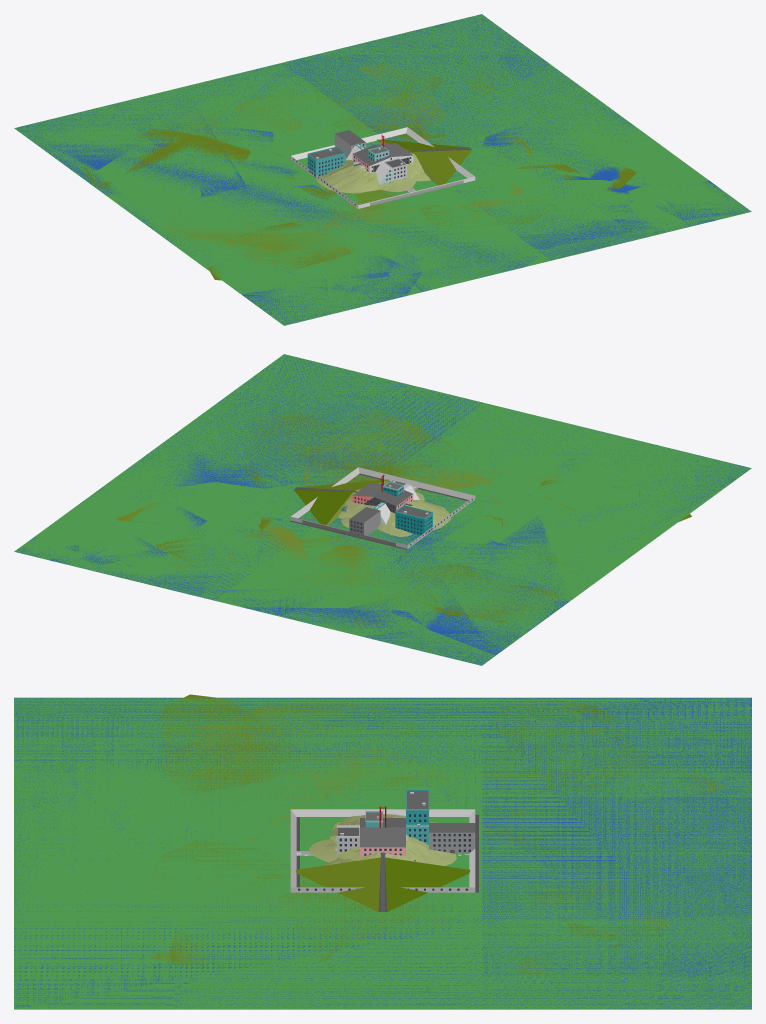
File: central_europe.glb
3 views of the same model, one above another, from view 1: azimuth 30°, elevation 25°; view 2: azimuth 150°, elevation 25°; view 3: azimuth 270°, elevation 25° (orthographic). The views are drawn at different scales.
Visible parts, largest first — view 1: central_europe_000_lod0, central_europe_129_lod0, central_europe_142_lod0, central_europe_148_lod0, central_europe_149_lod0, central_europe_141_lod0, central_europe_155_lod0, central_europe_131_lod0, central_europe_140_lod0, central_europe_134_lod0, central_europe_135_lod0, central_europe_136_lod0 (+24 smaller); view 2: central_europe_135_lod0, central_europe_131_lod0, central_europe_000_lod0, central_europe_152_lod0, central_europe_129_lod0, central_europe_142_lod0, central_europe_141_lod0, central_europe_134_lod0, central_europe_149_lod0, central_europe_148_lod0, central_europe_106_lod0_forest, central_europe_139_lod0 (+22 smaller); view 3: central_europe_000_lod0, central_europe_144_lod0, central_europe_128_lod0, central_europe_159_lod0, central_europe_134_lod0, central_europe_129_lod0, central_europe_131_lod0, central_europe_143_lod0, central_europe_135_lod0, central_europe_138_lod0, central_europe_106_lod0_forest, central_europe_140_lod0 (+24 smaller).
Part boxes in pixels (box(x1,y1,x2,y2)): central_europe_000_lod0: box(14, 14, 751, 325); central_europe_129_lod0: box(16, 15, 749, 324); central_europe_142_lod0: box(20, 21, 742, 324); central_europe_148_lod0: box(46, 25, 748, 320); central_europe_149_lod0: box(34, 40, 729, 310); central_europe_141_lod0: box(32, 16, 741, 322); central_europe_155_lod0: box(29, 45, 744, 322); central_europe_131_lod0: box(16, 15, 746, 324); central_europe_140_lod0: box(22, 16, 745, 317); central_europe_134_lod0: box(16, 16, 745, 323); central_europe_135_lod0: box(18, 15, 741, 324); central_europe_136_lod0: box(20, 19, 744, 322); central_europe_135_lod0: box(20, 356, 749, 664); central_europe_131_lod0: box(15, 355, 749, 664); central_europe_000_lod0: box(14, 354, 750, 665); central_europe_152_lod0: box(107, 385, 718, 658); central_europe_129_lod0: box(18, 355, 748, 664); central_europe_142_lod0: box(25, 357, 740, 662); central_europe_141_lod0: box(18, 355, 740, 661); central_europe_134_lod0: box(17, 356, 748, 664); central_europe_149_lod0: box(62, 412, 725, 663); central_europe_148_lod0: box(112, 360, 671, 662); central_europe_106_lod0_forest: box(156, 448, 691, 622); central_europe_139_lod0: box(34, 356, 745, 664); central_europe_000_lod0: box(14, 697, 751, 1009); central_europe_144_lod0: box(14, 698, 751, 1008); central_europe_128_lod0: box(14, 697, 751, 1009); central_europe_159_lod0: box(16, 701, 751, 1009); central_europe_134_lod0: box(14, 698, 751, 1009); central_europe_129_lod0: box(14, 698, 751, 1009); central_europe_131_lod0: box(14, 697, 751, 1009); central_europe_143_lod0: box(14, 698, 738, 1009); central_europe_135_lod0: box(14, 698, 751, 1009); central_europe_138_lod0: box(14, 698, 751, 1008); central_europe_106_lod0_forest: box(157, 694, 669, 946); central_europe_140_lod0: box(14, 698, 751, 1008).
Size of what is drawn, in the model's own units: 4139 by 288 by 4096.
